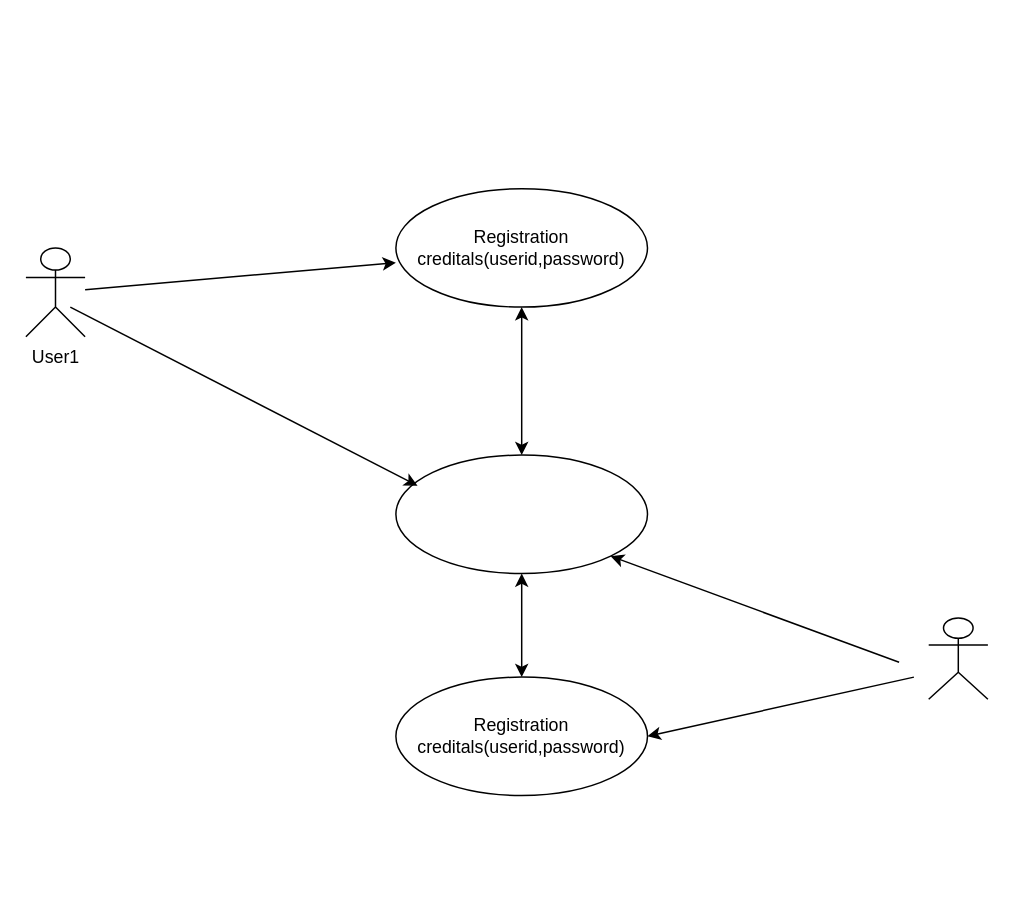
Image size: 1014x924. Some labels were removed from this diagram. Each missing label, with the centre of its shape:
querys (messages with userid): pixel 521 514
User2: pixel 957 657
